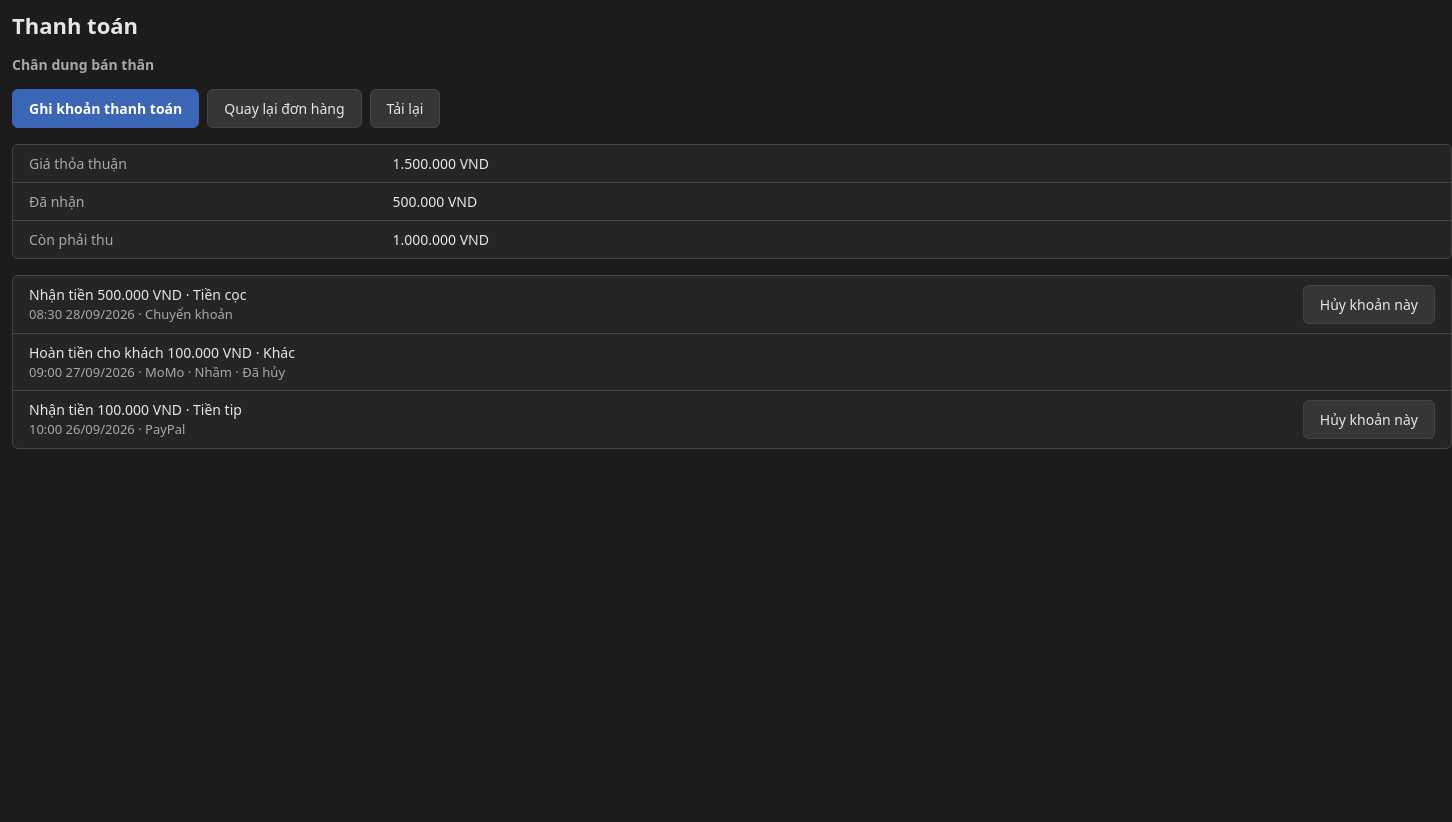
Test: page payment_list: voiding a payment (§7.2, principle 5) › "Xác nhận" sends exactly once (confirmed = true) for the payment of the question; the buttons are disabled while it runs; then the notice, and the list read aga
The image size is (1452, 822).
expect the element named "Số dư đơn hàng" is shown: met, box [12,144,1451,259]
Step 1. Click the button "Hủy khoản này" in the row of "Nhận tiền 100.000 VND · Tiền tip" → coordinates (1369, 419), box [1303,400,1435,439]
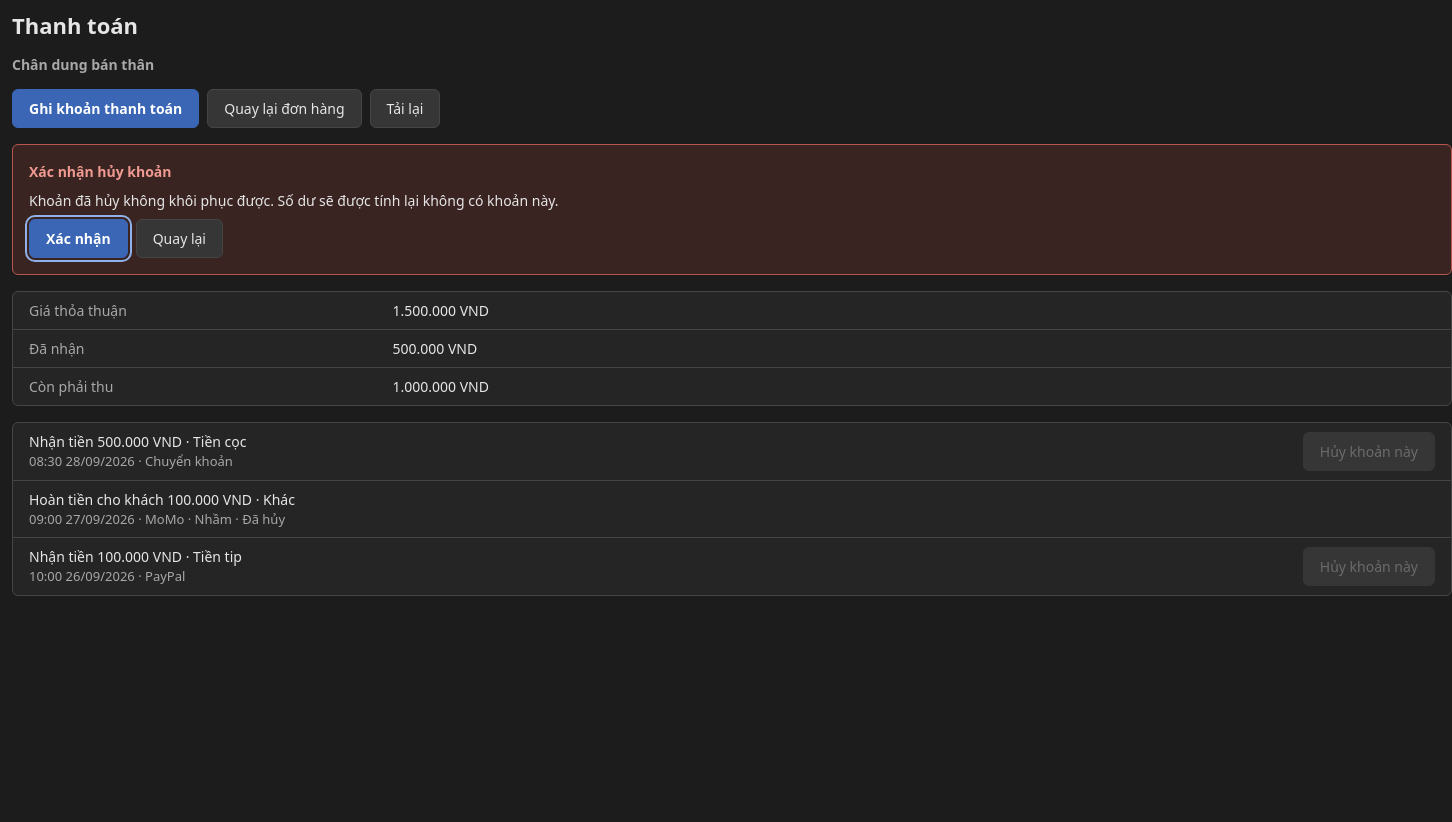
Step 2. Click the button "Xác nhận" → coordinates (78, 238), box [29,219,128,258]
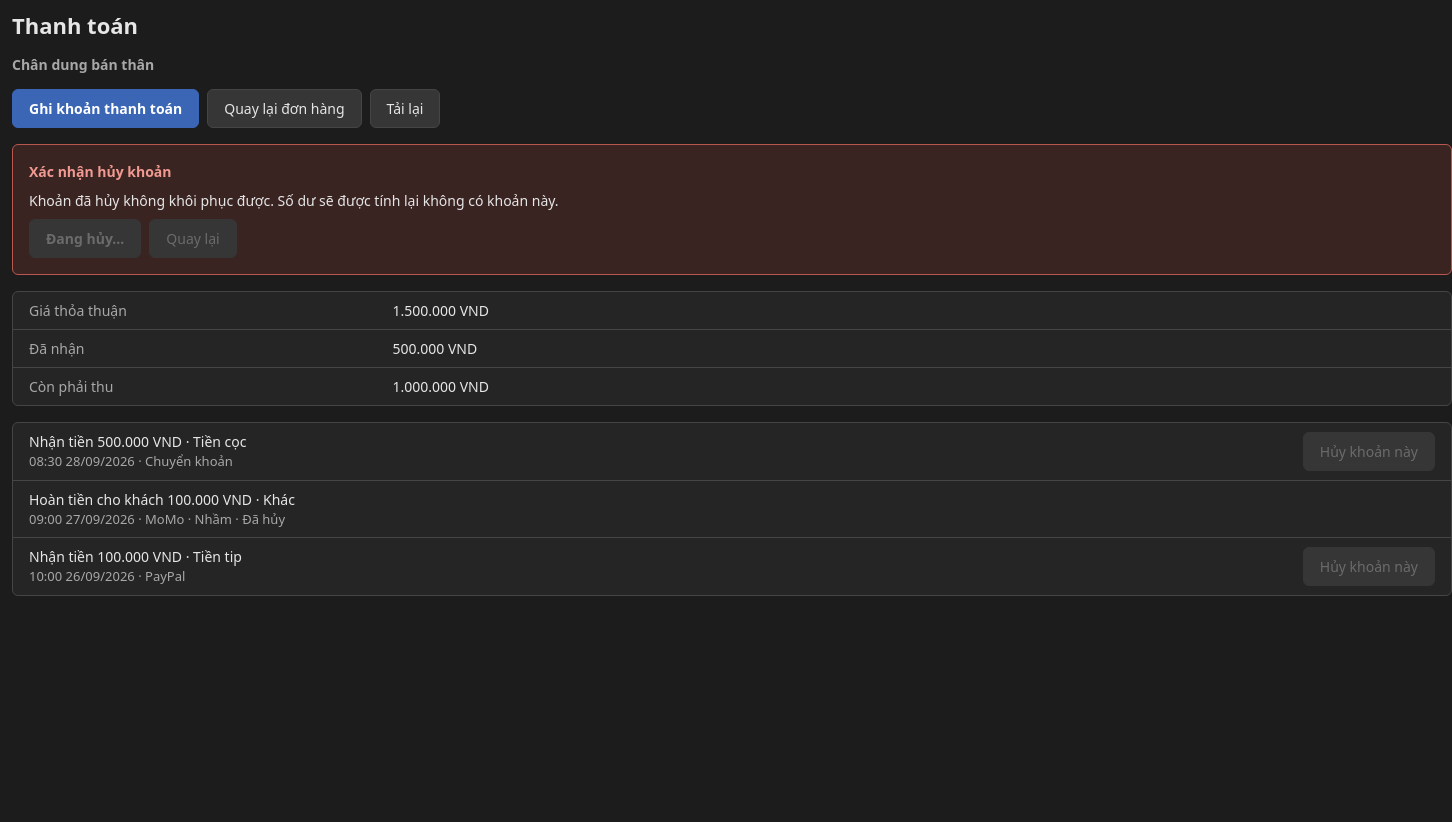
expect the button "Đang hủy…" is disabled: met
expect the button "Quay lại" is disabled: met, box [149,219,237,258]
Step 3. Click the button "Đang hủy…" → coordinates (85, 238), box [29,219,141,258]
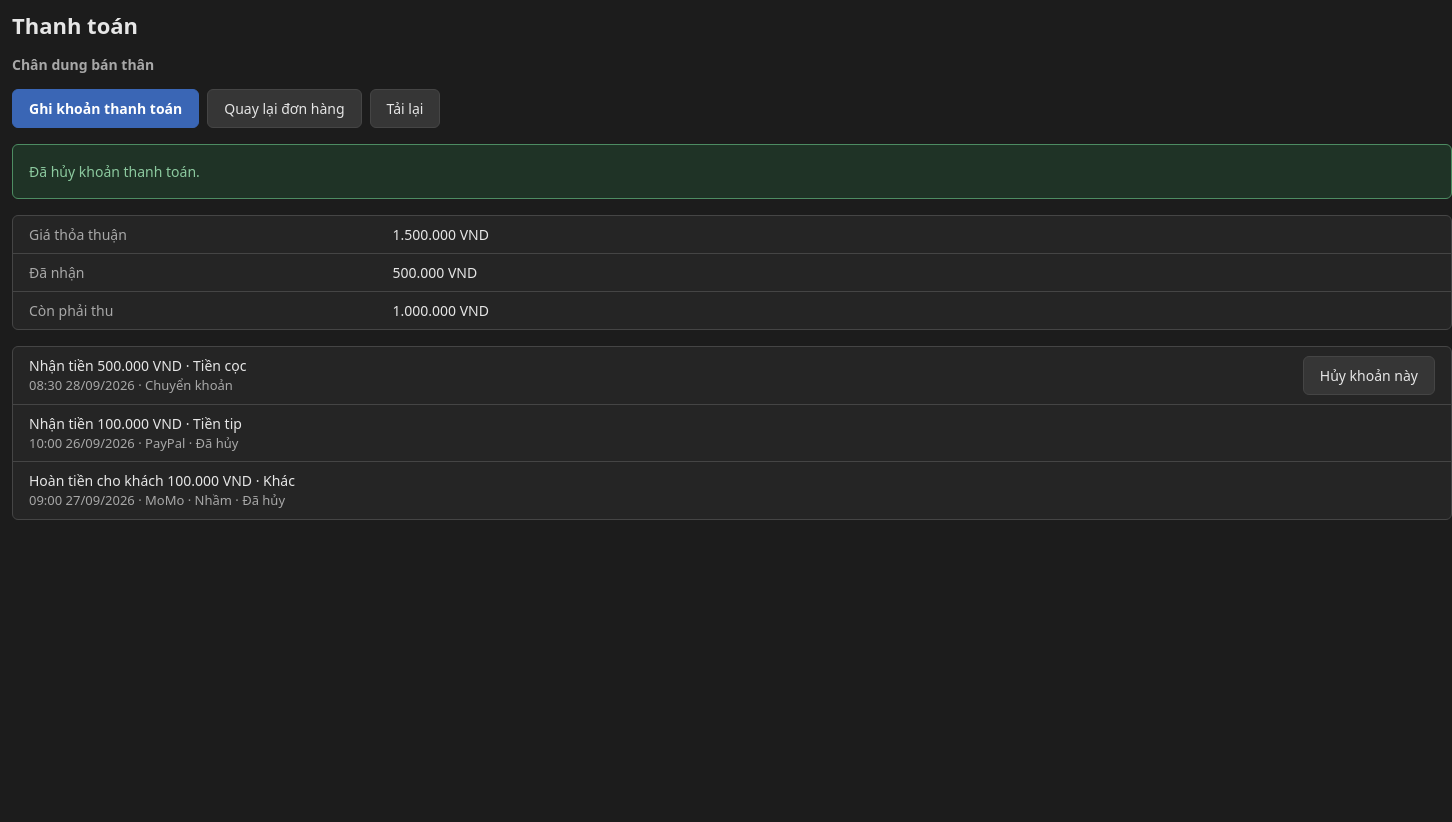
expect the message reads "Đã hủy khoản thanh toán.": met, box [29,162,200,181]
expect the number of buttons "Hủy khoản này" is 1: met, box [1303,356,1435,395]
expect the text "Xác nhận hủy khoản" is gone: met
